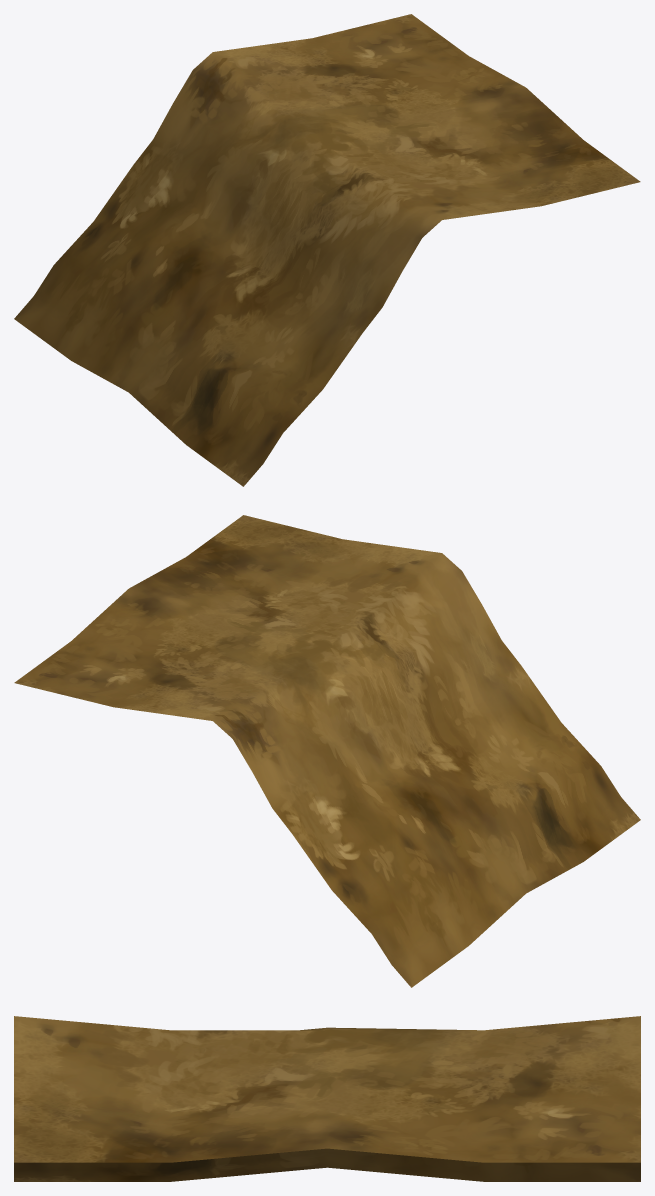
File: Levelled_Slope_002.fbx
3 renders of one model, top to bottom at view 1: azimuth 30°, elevation 25°; view 2: azimuth 150°, elevation 25°; view 3: azimuth 270°, elevation 25°, orthographic. The views are drawn at different scales.
Visible parts, largest first — view 1: Levelled_Slope_002; view 2: Levelled_Slope_002; view 3: Levelled_Slope_002.
Boxes of the visible parts, box(x1,y1,x2,y2) form: Levelled_Slope_002: box(14, 14, 640, 486); Levelled_Slope_002: box(14, 515, 640, 987); Levelled_Slope_002: box(14, 1016, 640, 1181).
Bounding box in the file's own units: 10 × 5.25 × 10.
1 material, 1 textured.
